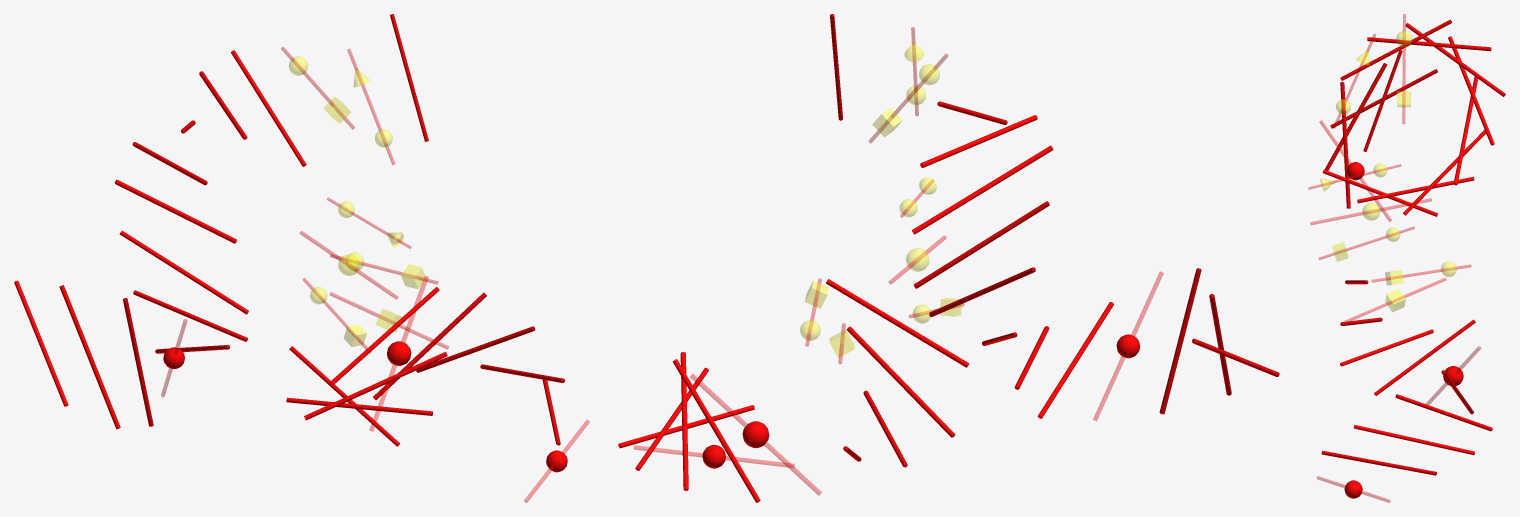
File: candidate.gltf
3 views of the same model, side by side, from view 1: azimuth 30°, elevation 25°; view 2: azimuth 150°, elevation 25°; view 3: azimuth 270°, elevation 25° (orthographic). The views are drawn at different scales.
Bounding box in the file's own units: 58.34 × 47.16 × 21.41.
